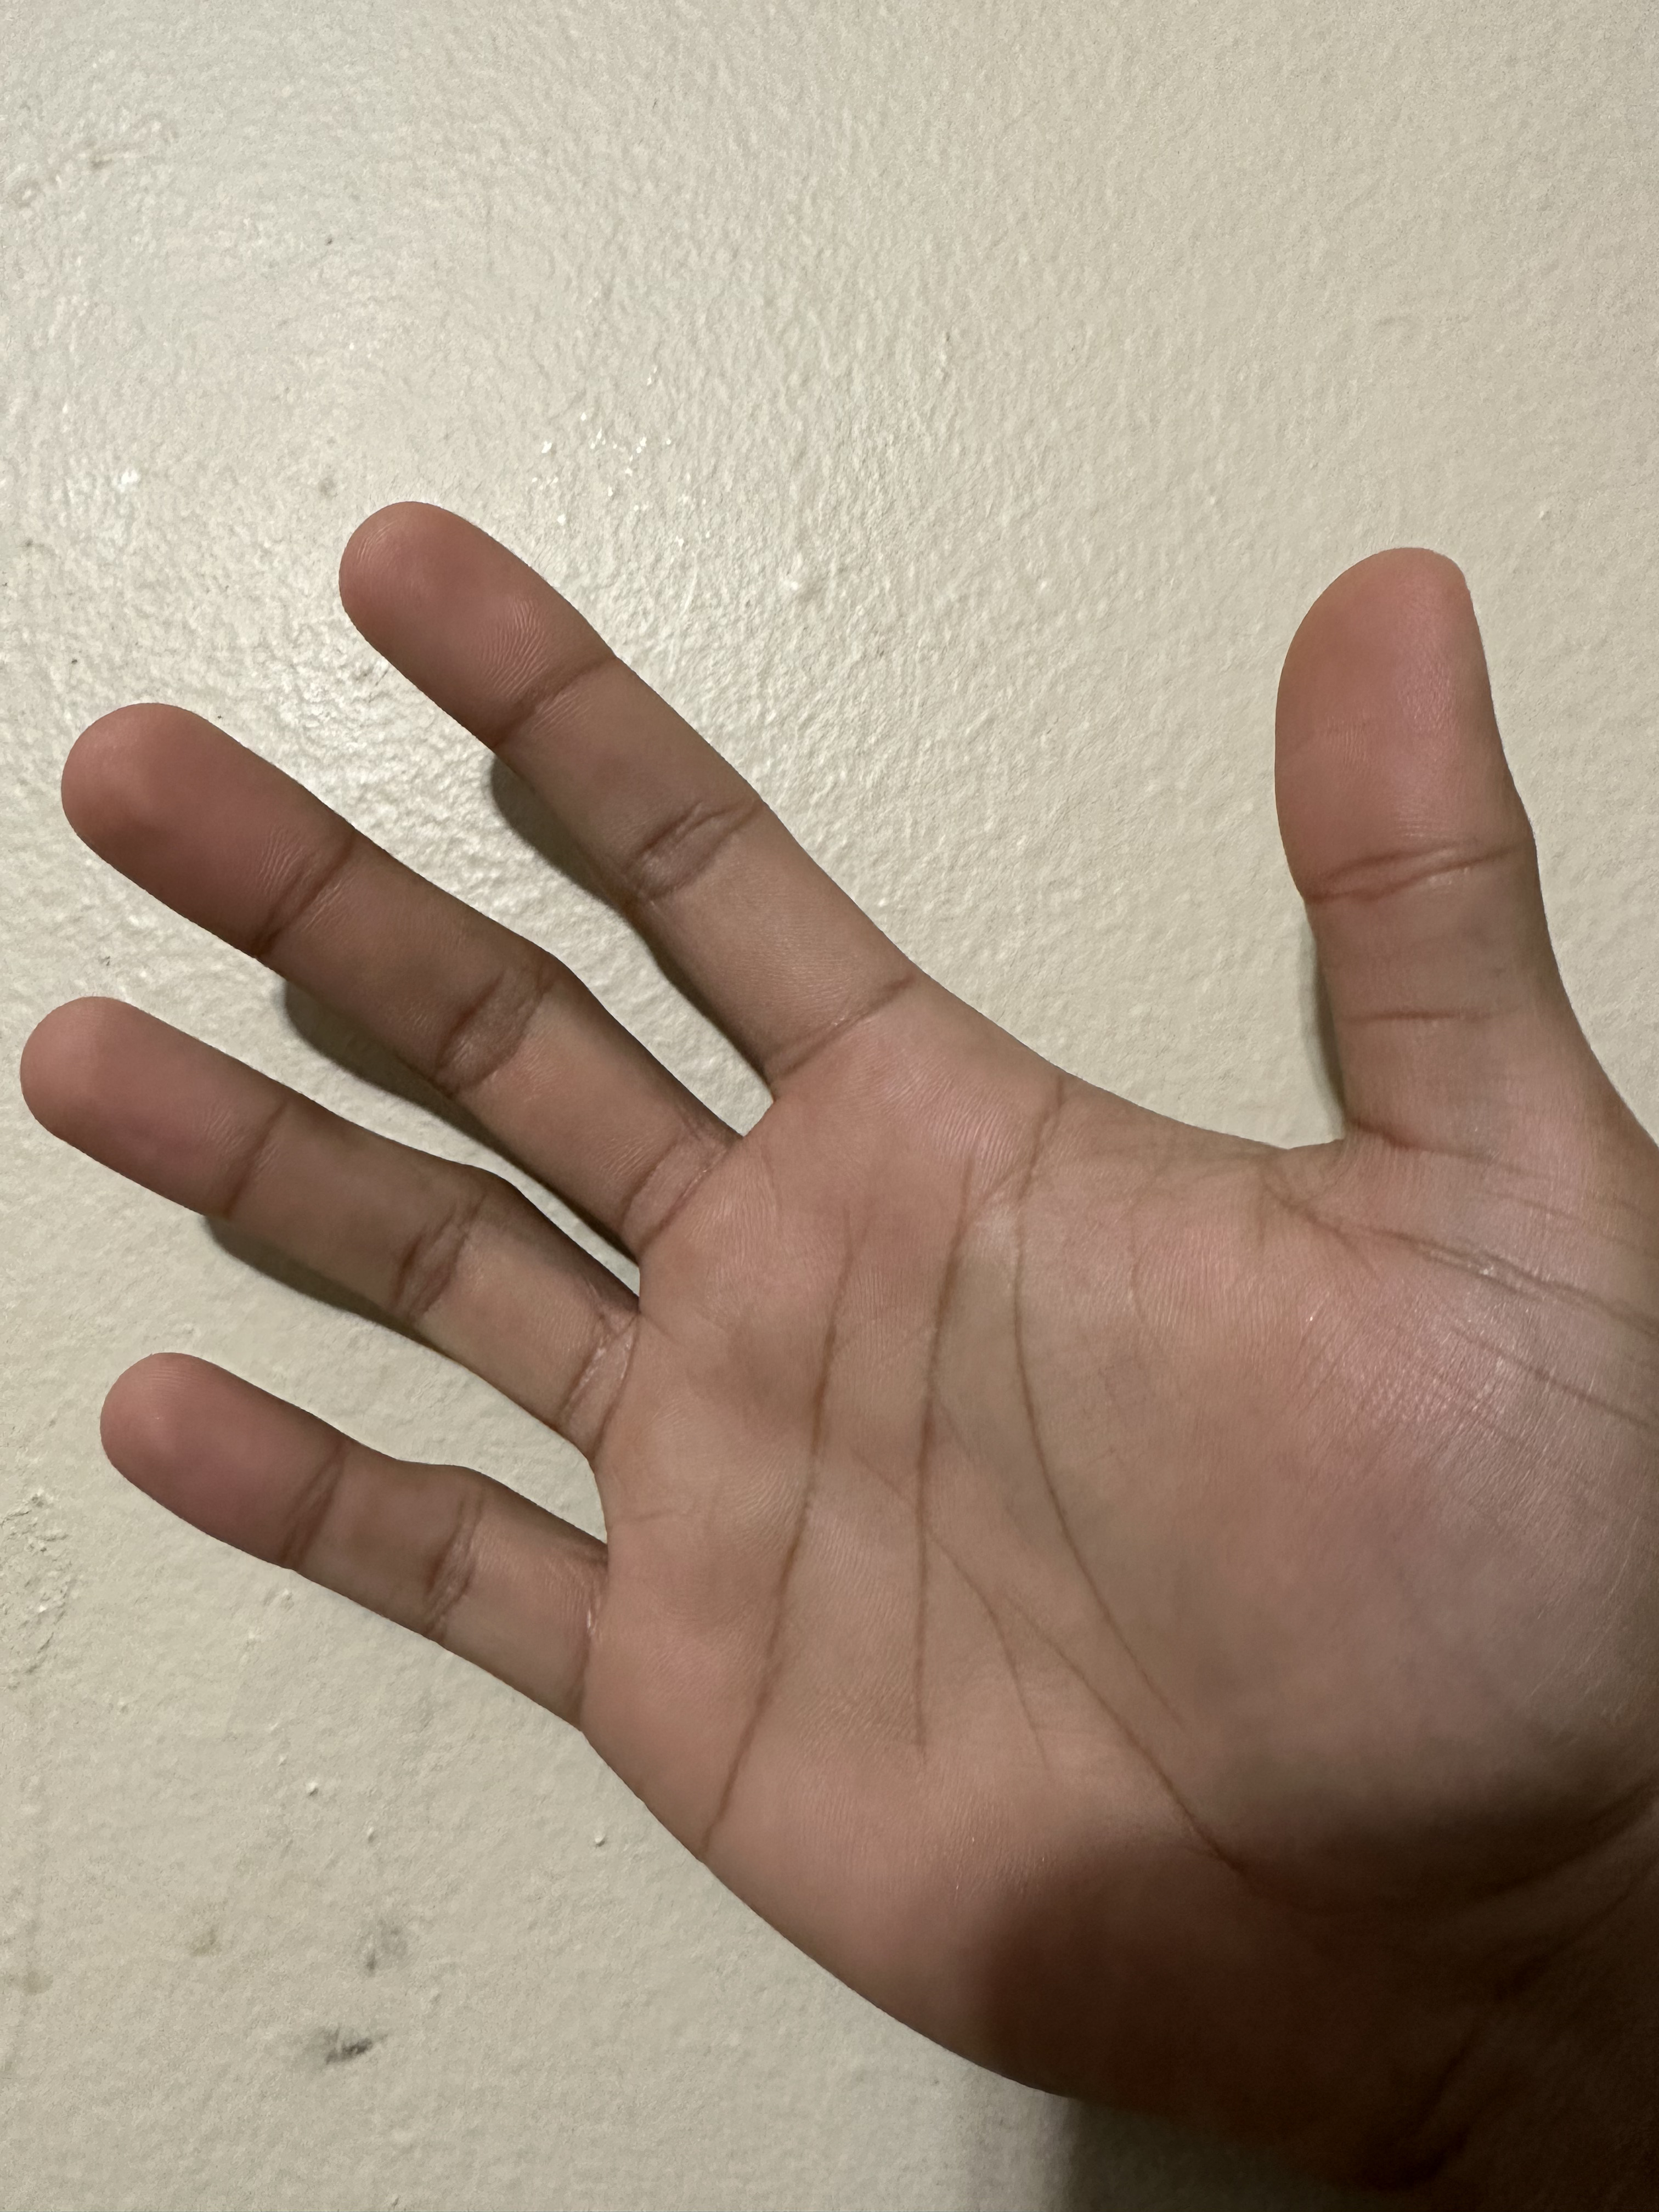finger: (1251, 503, 1542, 857), (35, 681, 338, 928), (308, 467, 619, 691), (3, 974, 291, 1205), (73, 1329, 342, 1550)
